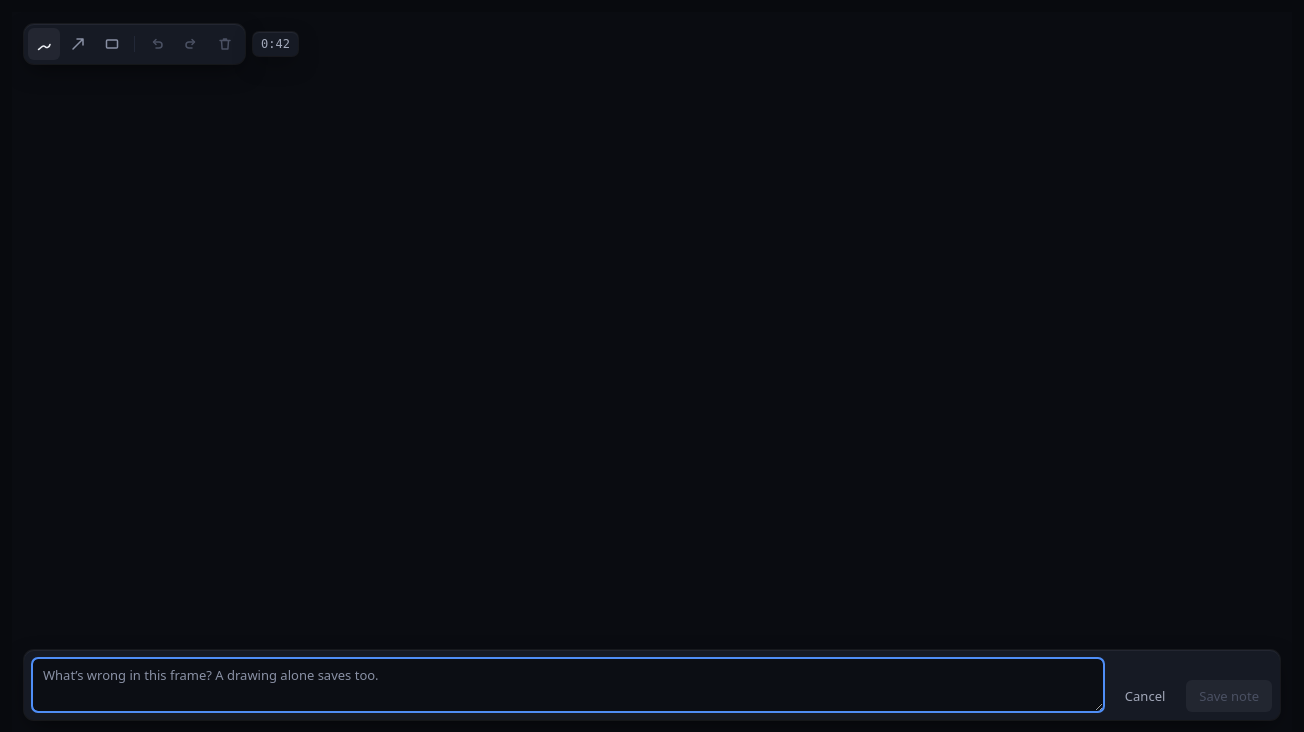
it: AnnotationOverlay › undoes and redoes a shape
Press the mouse on the drawing named "draw on this frame" at (652, 372), box [12,12,1292,731]
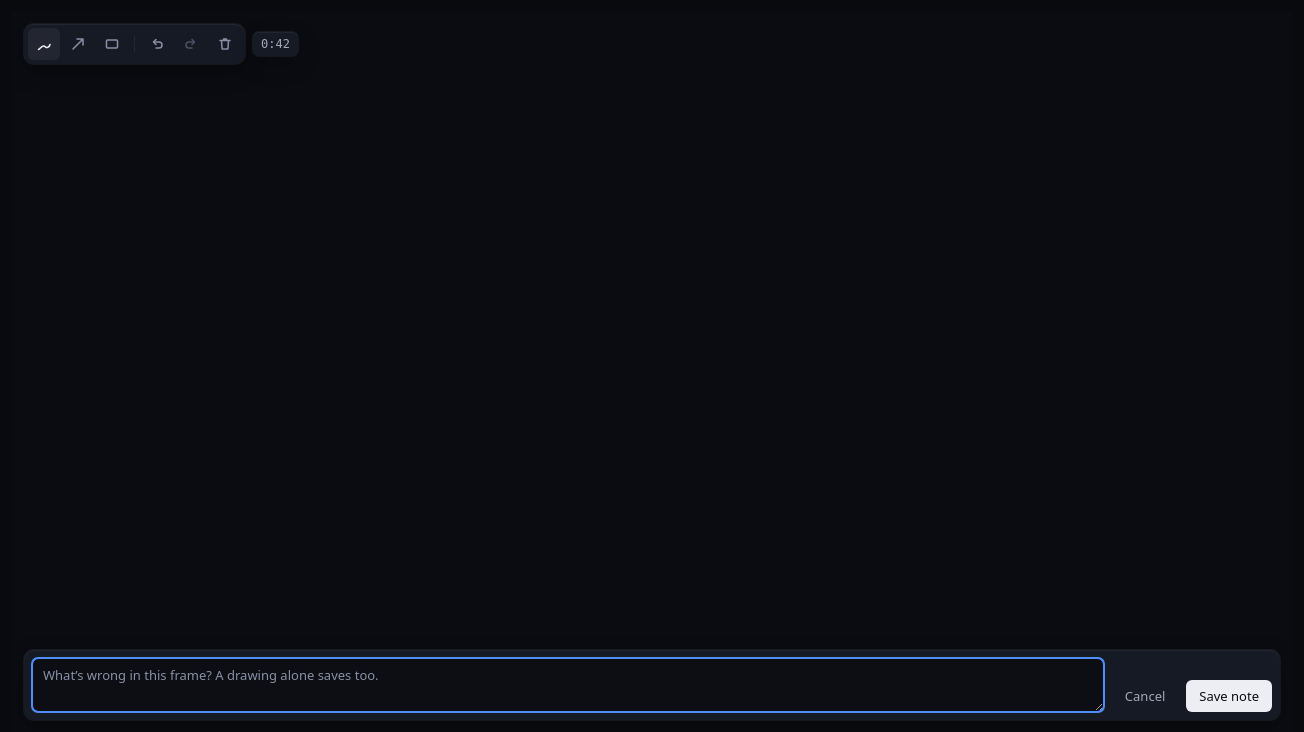
Click the button named "Undo".
click(157, 44)  # box [141,28,173,60]
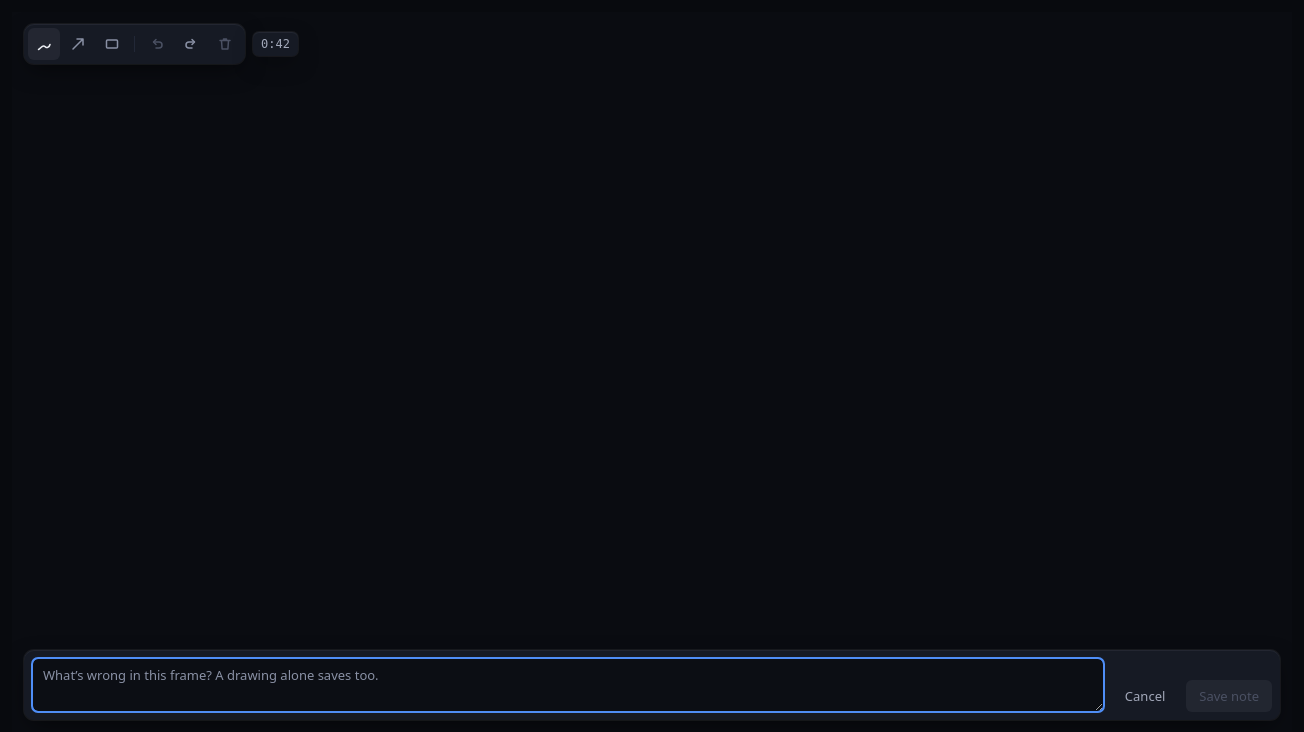
Expected: the button "Save note" is disabled, [1186,680,1272,712]
Click the button named "Redo".
click(191, 44)  # box [175,28,207,60]
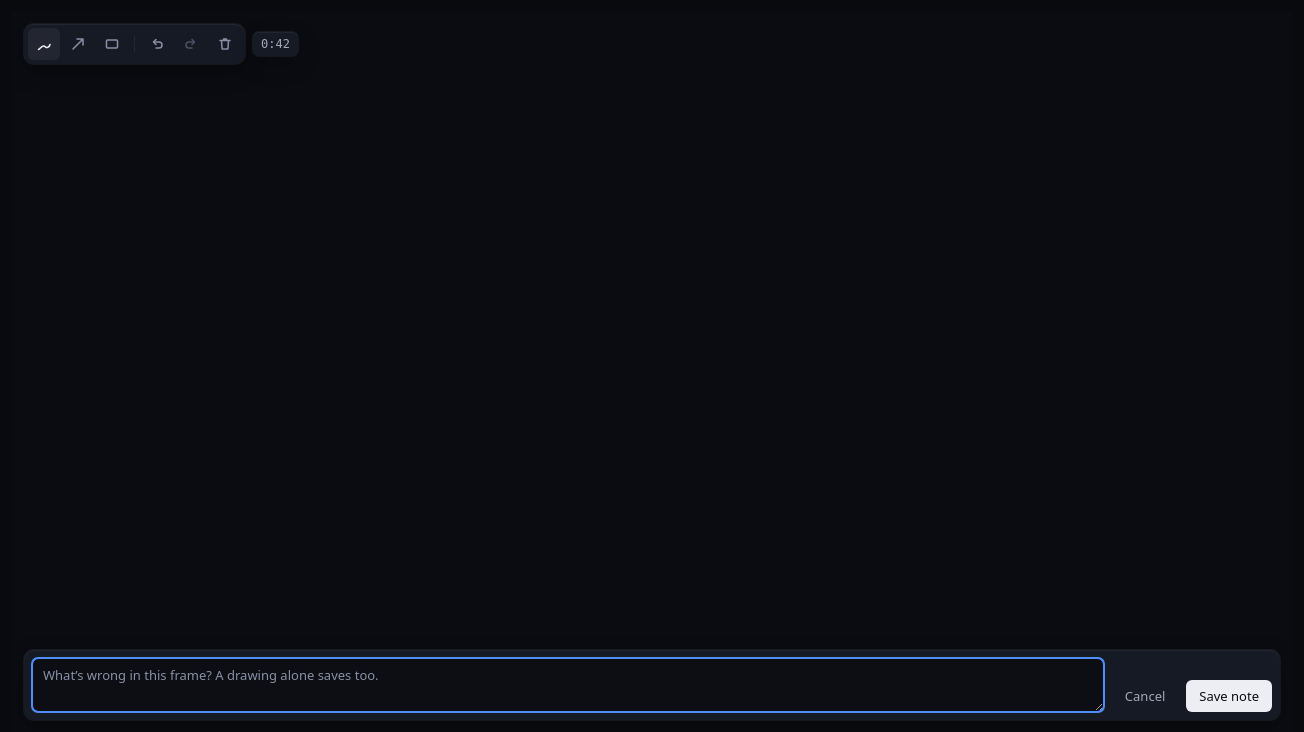
Expected: the button "Save note" is enabled, [1186,680,1272,712]
